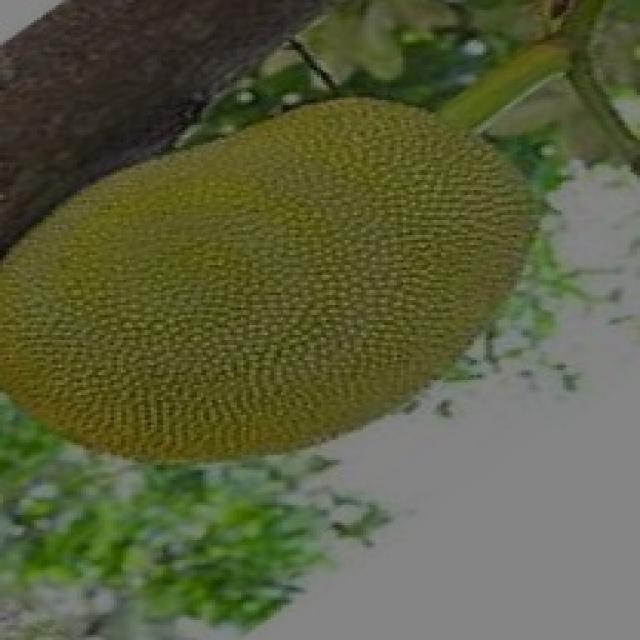Fruit: (172, 60, 576, 445)
